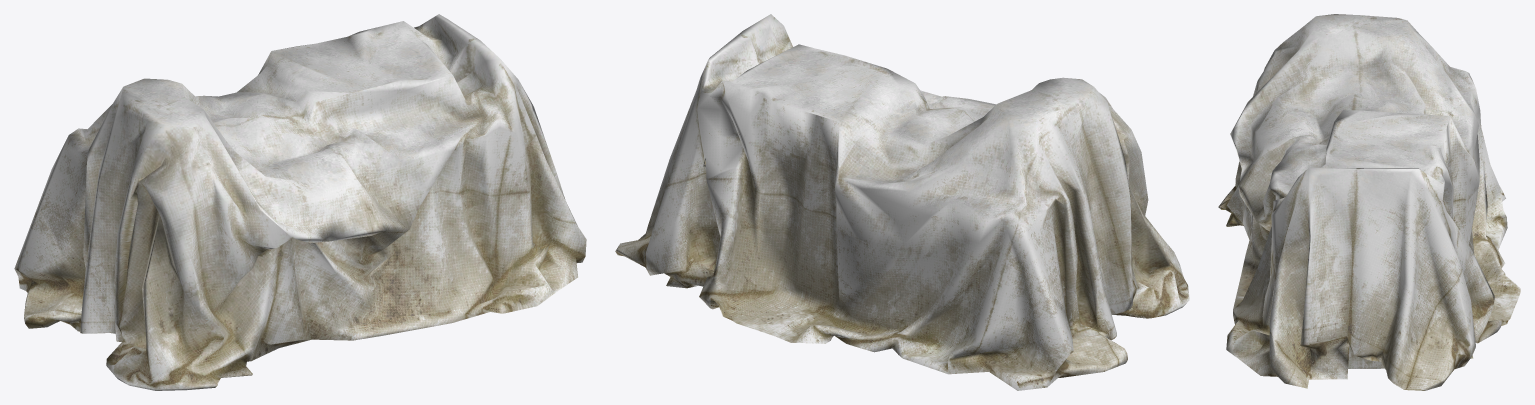
Rendered from 150_PlasticSheet.fbx.
The picture shows the model from 3 angles, left to right: view 1: azimuth 30°, elevation 25°; view 2: azimuth 150°, elevation 25°; view 3: azimuth 270°, elevation 25°; orthographic projection. The views are drawn at different scales.
Parts seen in each view (by area): view 1: LOD_1_Group_0_Sub_1__sm30_150_PlasticSheet01A_A_Mat; view 2: LOD_1_Group_0_Sub_1__sm30_150_PlasticSheet01A_A_Mat; view 3: LOD_1_Group_0_Sub_1__sm30_150_PlasticSheet01A_A_Mat.
Boxes of the visible parts, x1,y1,x2,y2 form: LOD_1_Group_0_Sub_1__sm30_150_PlasticSheet01A_A_Mat: [14, 14, 586, 390]; LOD_1_Group_0_Sub_1__sm30_150_PlasticSheet01A_A_Mat: [615, 14, 1189, 390]; LOD_1_Group_0_Sub_1__sm30_150_PlasticSheet01A_A_Mat: [1218, 14, 1520, 390].
Size of the model in its own units: 2.26 by 0.9563 by 1.32.
